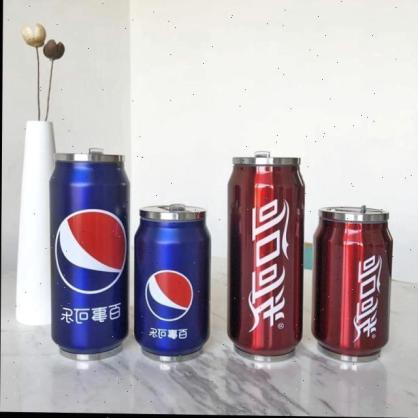can: (48, 149, 132, 358), (224, 154, 310, 358), (311, 202, 394, 365), (132, 201, 211, 359)
